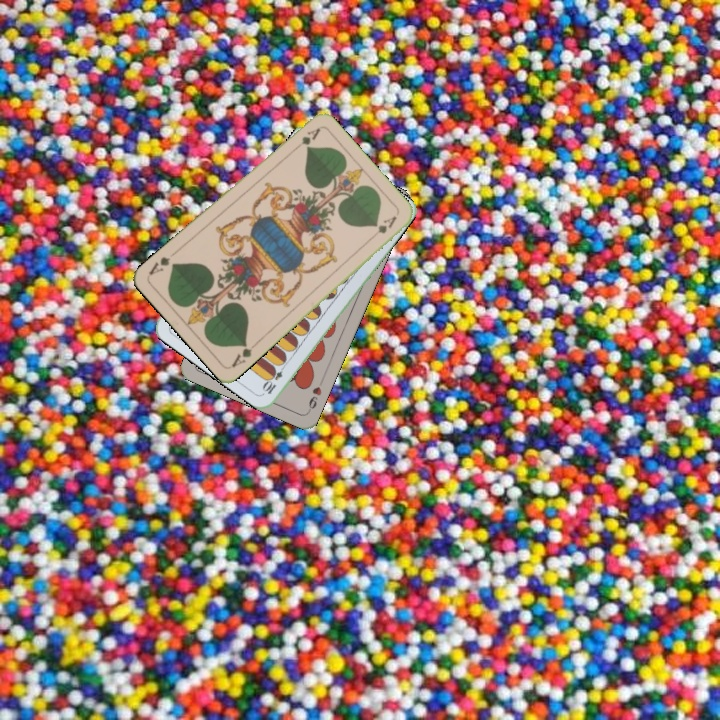E10: (259, 359, 289, 397)
GA: (227, 338, 261, 370), (288, 124, 323, 155)
H9: (304, 376, 326, 414)
